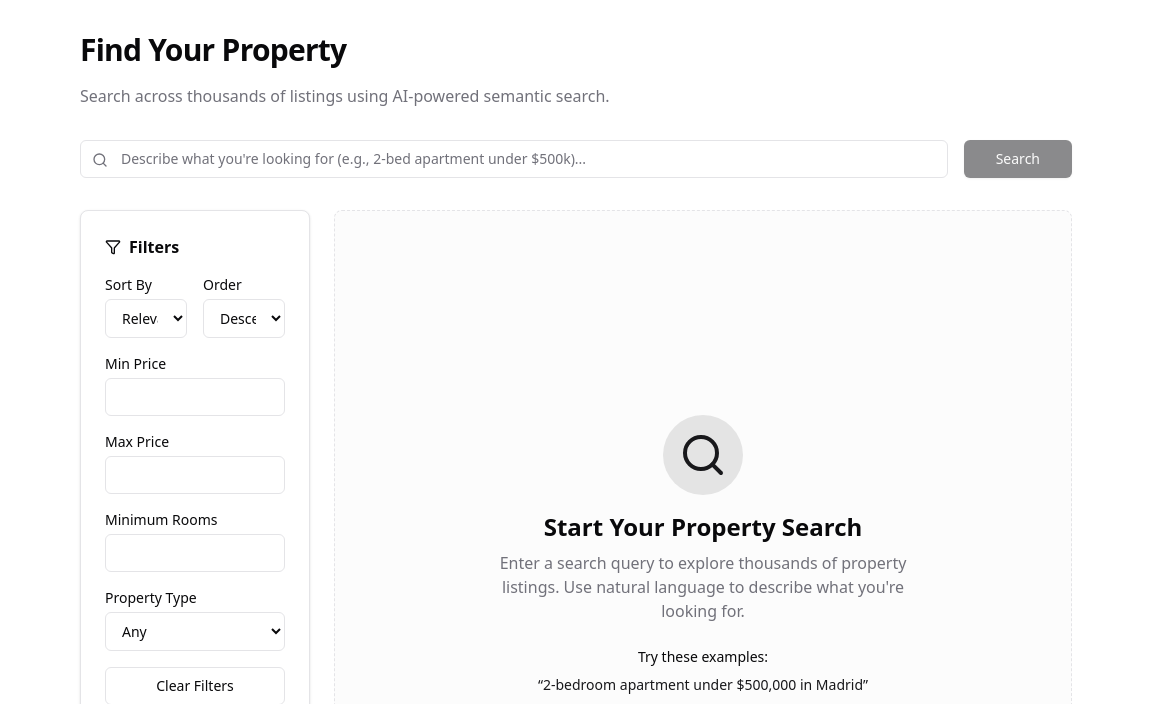
SearchPage › handles missing property details
Replace the text in the field named "Search query" with "Cheap" at (514, 159), box [80,140,948,178]
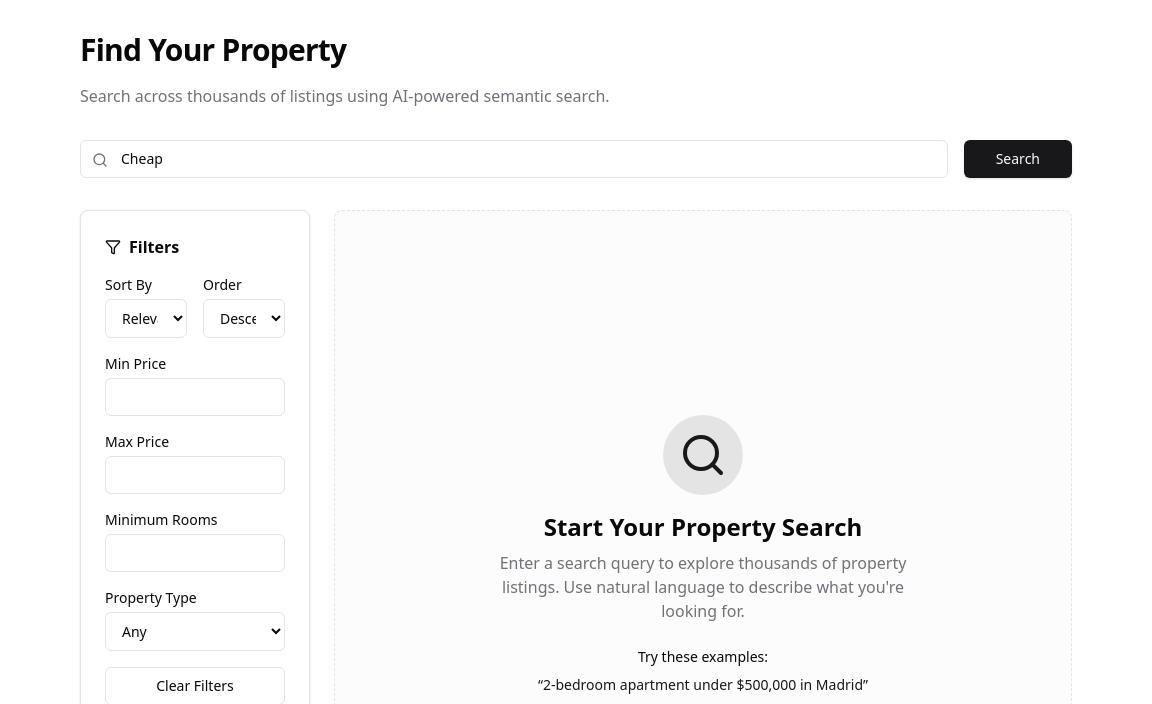
Click the button "Search" at (1018, 159), box [964,140,1072,178]
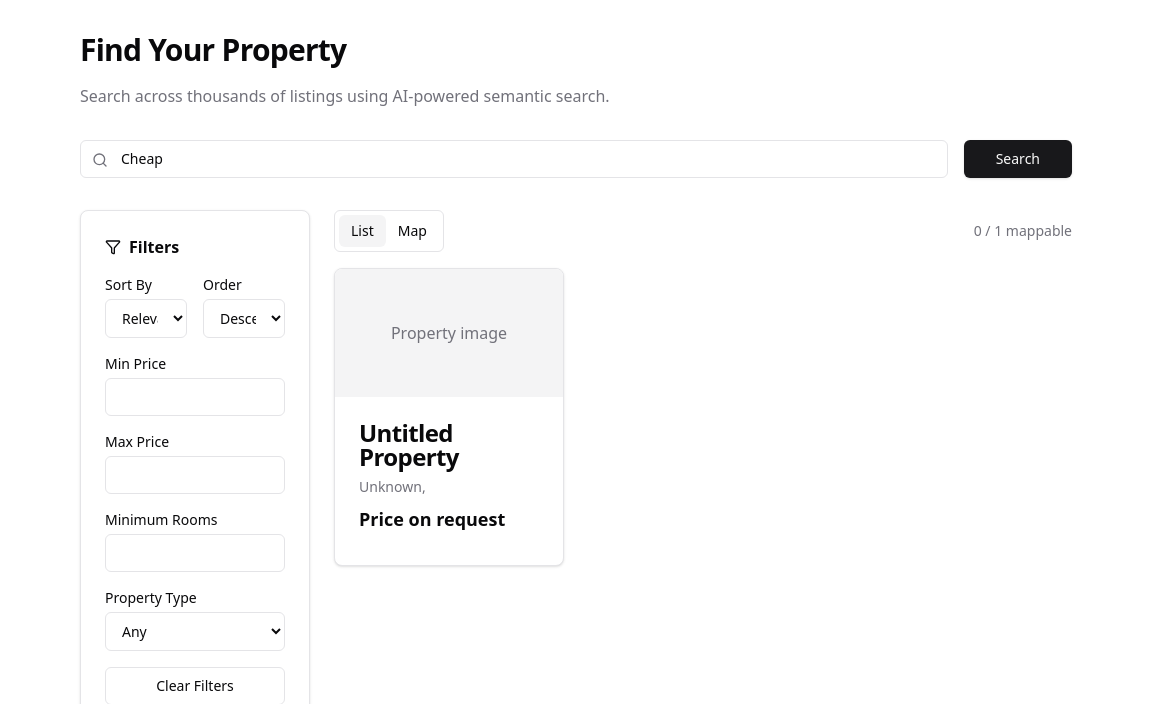
Now the heading "Untitled Property" is shown, box [359,416,459,473]
Now the text "Price on request" is shown, box [359,507,505,531]
